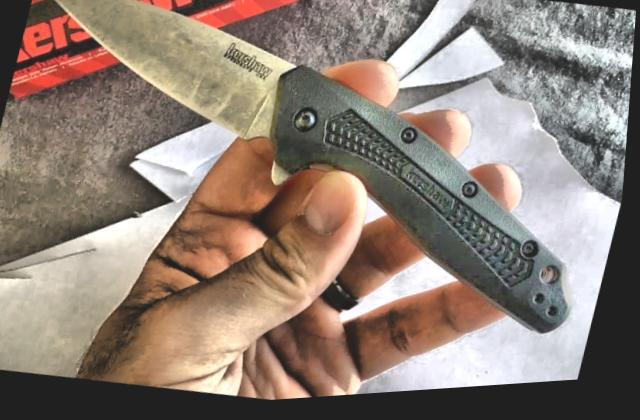knife: (0, 0, 462, 277)
